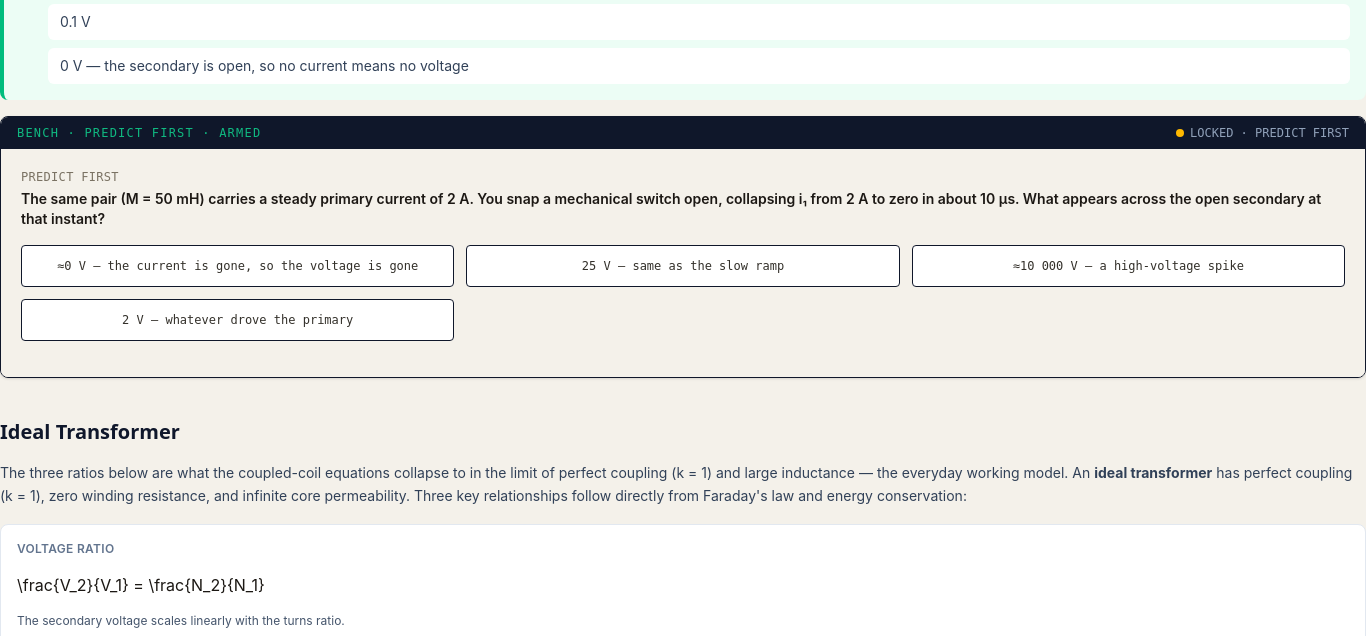
Scenario: Transformers — section 3.4 page (mutual-inductance extension) › keeps the flyback gate unlocked across a tab remount (lifted state)
(page scrolled)
Click the button "≈10 000 V — a high-voltage spike" at coordinates (1128, 266), box [912,245,1345,287]
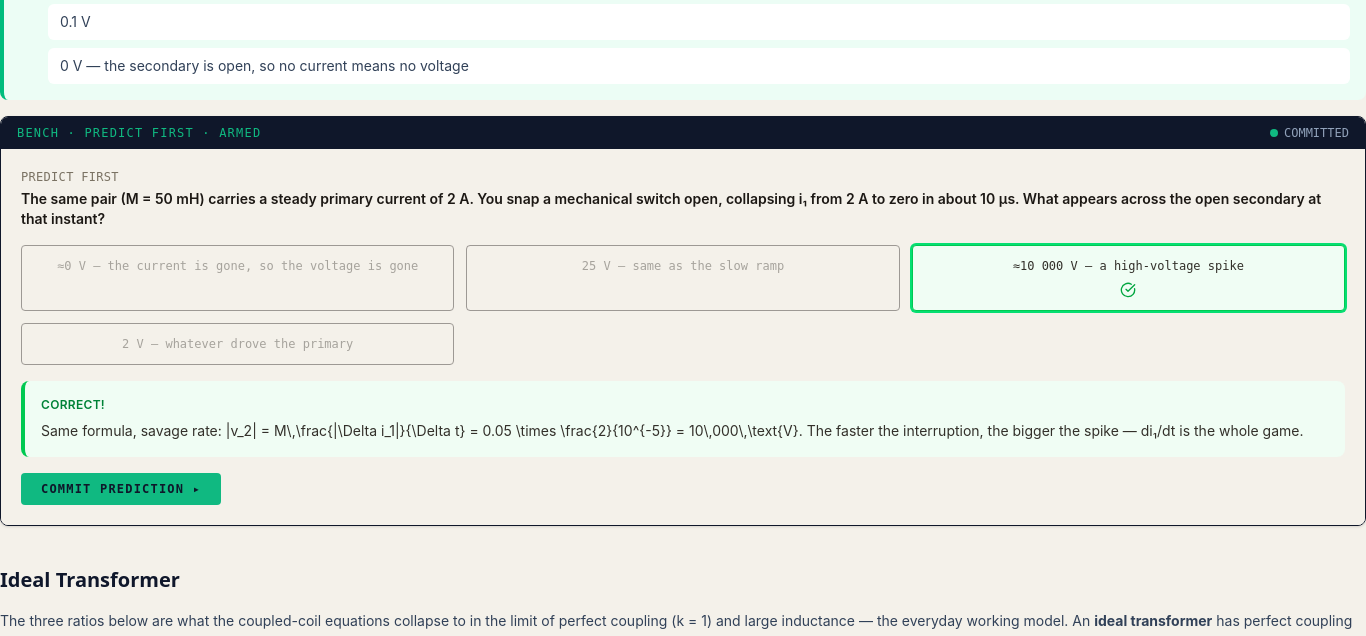
Now the text "Correct!" is shown, box [41,397,105,412]
Click the button "COMMIT PREDICTION ▸" at coordinates (121, 489), box [21,473,221,505]
(page scrolled)
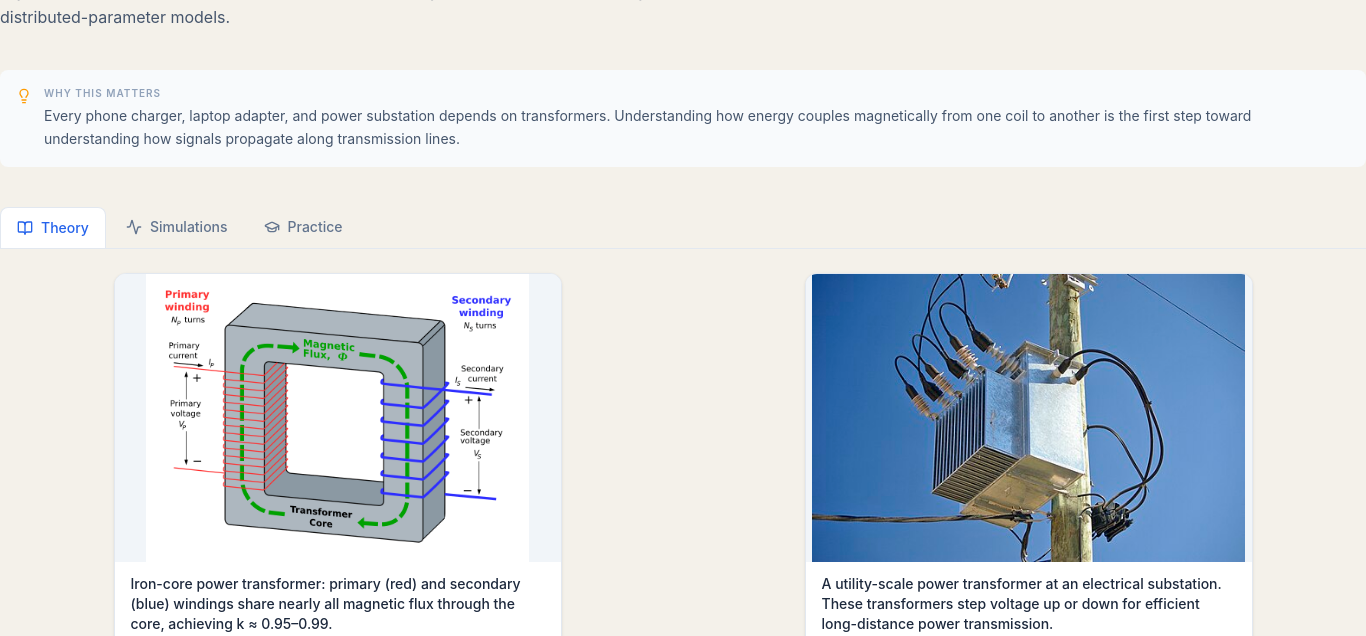
Click the tab "Simulations" at coordinates (177, 227), box [110,206,244,248]
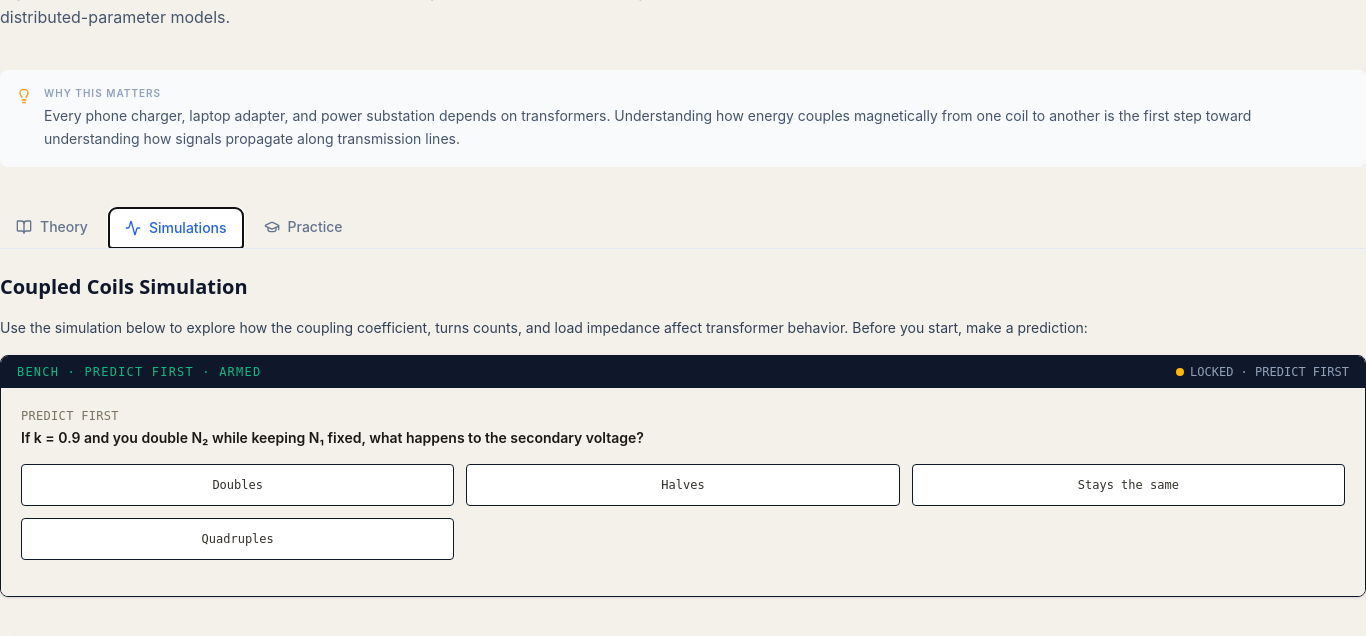
Click the tab "Theory" at coordinates (52, 227), box [0,206,104,248]
(page scrolled)
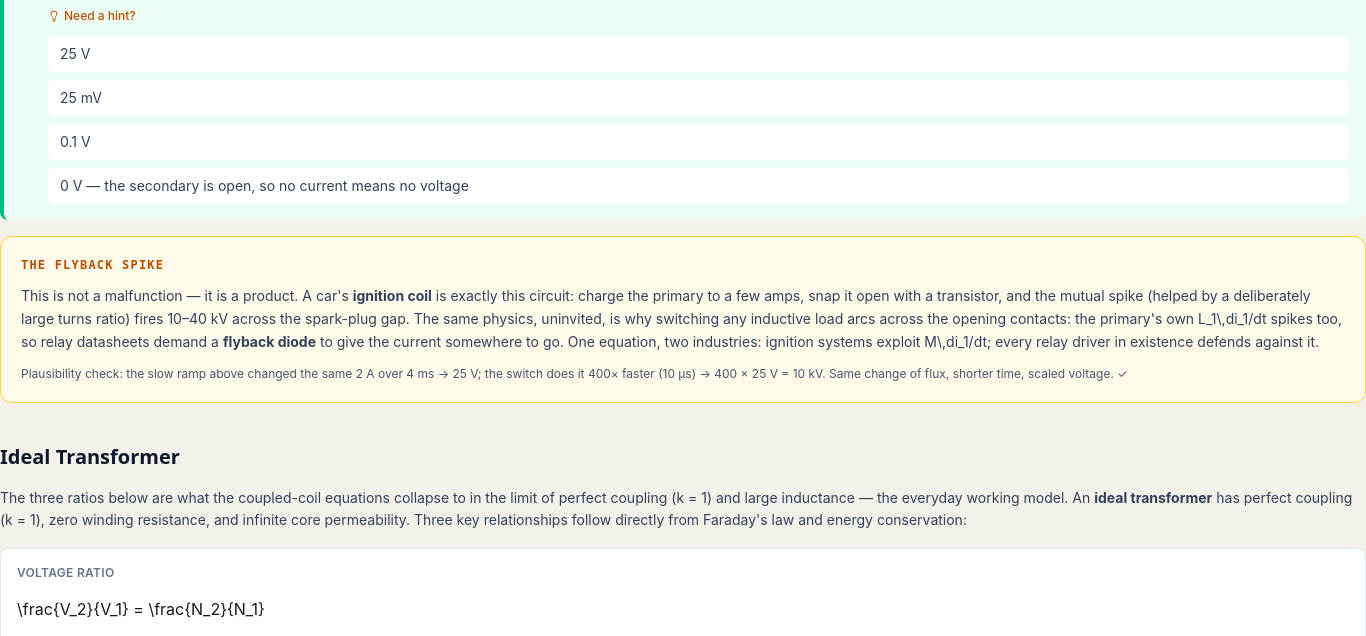
Now the text "The Flyback Spike" is shown, box [21,258,164,272]
